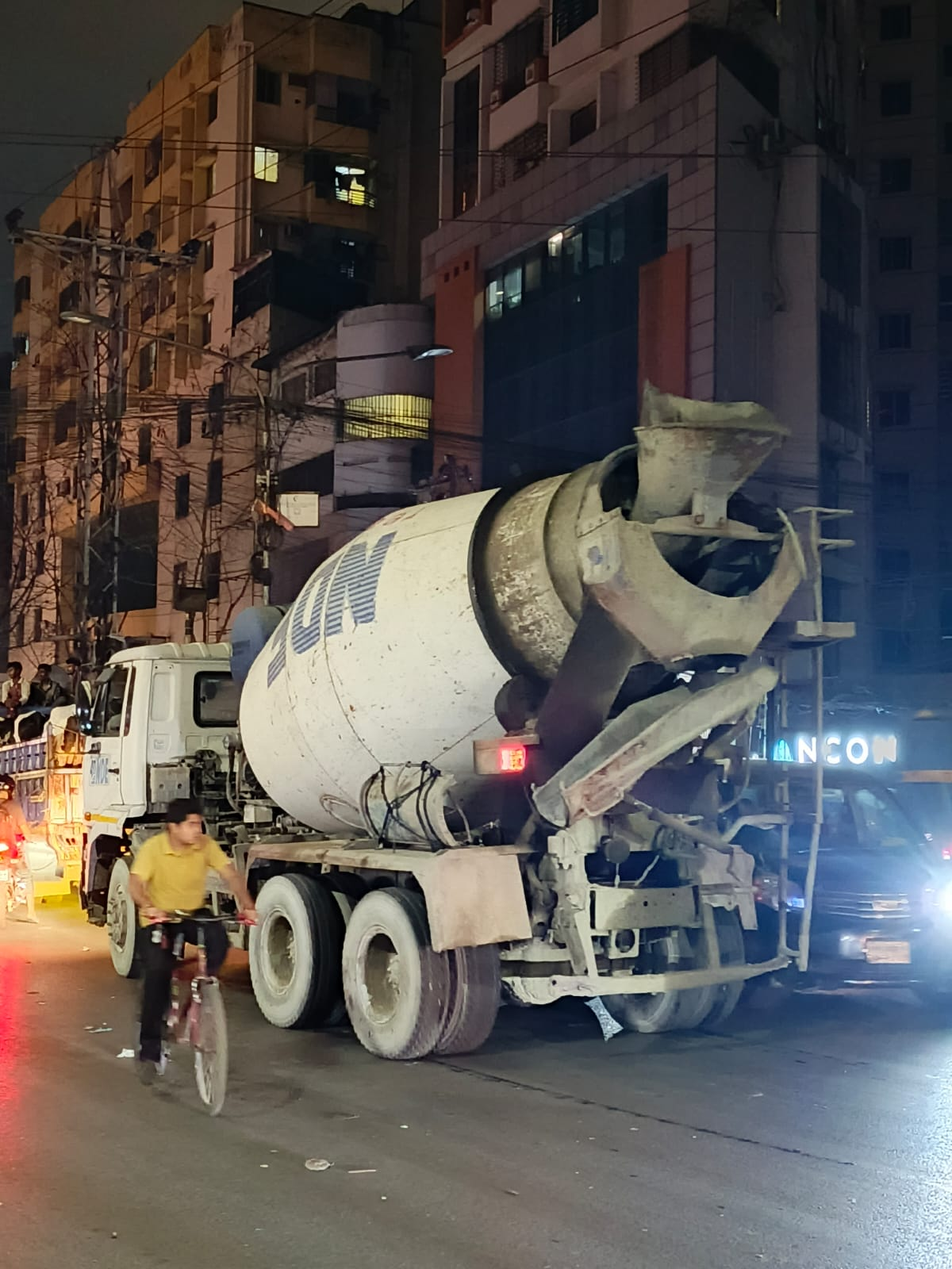Truck: (74, 394, 853, 1165), (0, 661, 154, 944)
private car: (753, 728, 952, 1031)
